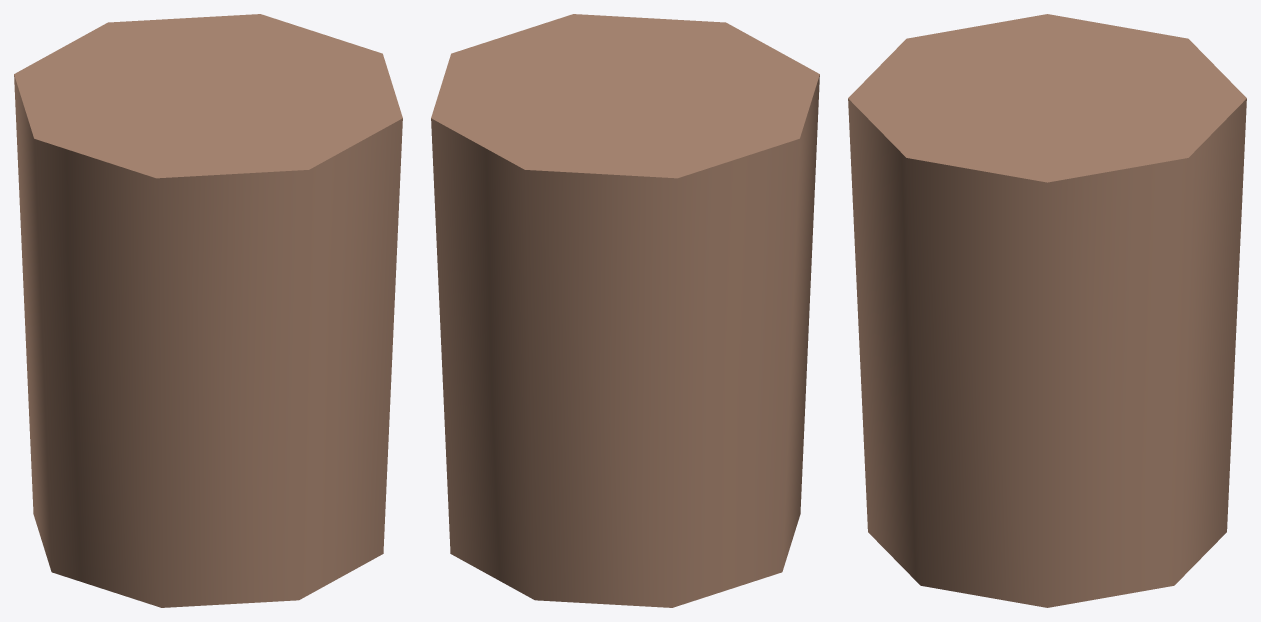
The model's file is neck.obj.
The picture shows the model from 3 angles, left to right: view 1: azimuth 30°, elevation 25°; view 2: azimuth 150°, elevation 25°; view 3: azimuth 270°, elevation 25°; orthographic projection.
Visible parts, largest first — view 1: neck; view 2: neck; view 3: neck.
Boxes of the visible parts, box(x1,y1,x2,y2) form: neck: box(14, 14, 402, 607); neck: box(431, 14, 819, 607); neck: box(848, 14, 1246, 607).
Bounding box in the file's own units: 0.1029 × 0.1234 × 0.1029.
